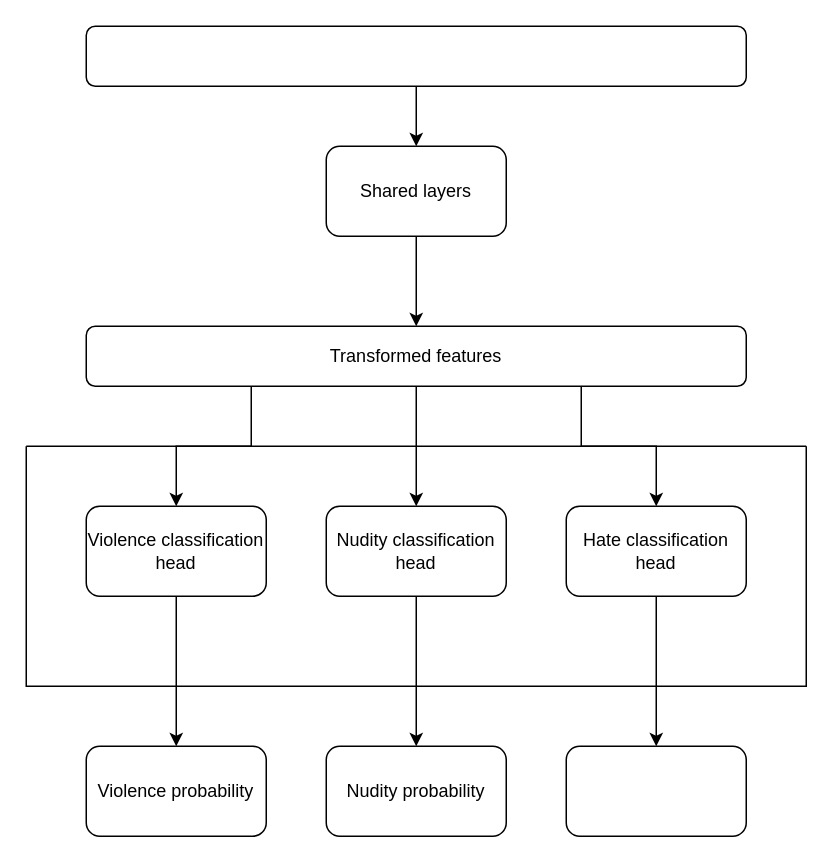
Some shapes in this 833 by 863 pixel diagram are drawn without their labels. The centre of each missing label's shape, as x and y in pixels:
"Fused features" belongs at pixel 415 55.
"Hate probability" belongs at pixel 655 790.
"Task specific layers" belongs at pixel 415 565.
